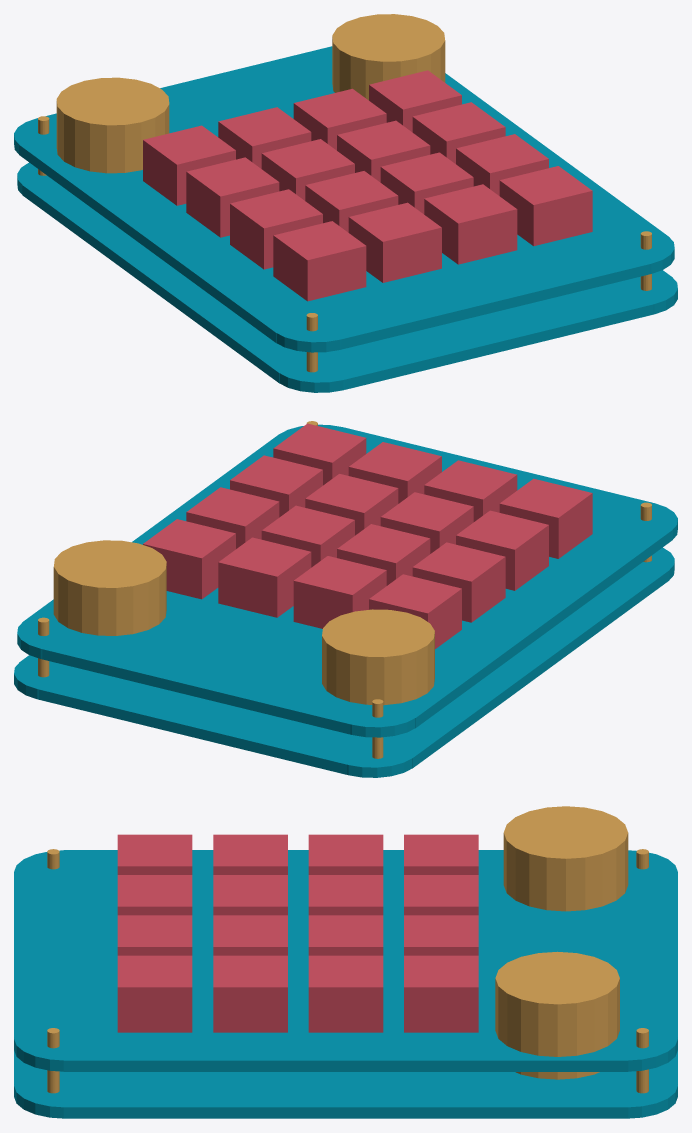
File: keypad.glb
3 views of the same model, one above another, from view 1: azimuth 30°, elevation 25°; view 2: azimuth 150°, elevation 25°; view 3: azimuth 270°, elevation 25° (orthographic). The views are drawn at different scales.
Parts seen in each view (by area): view 1: Mesh_Mesh_head_geo.001_lambert2SG.001; view 2: Mesh_Mesh_head_geo.001_lambert2SG.001; view 3: Mesh_Mesh_head_geo.001_lambert2SG.001.
Part boxes in pixels (left/top/right/bottom): Mesh_Mesh_head_geo.001_lambert2SG.001: left=14, top=14, right=677, bottom=392; Mesh_Mesh_head_geo.001_lambert2SG.001: left=14, top=421, right=677, bottom=777; Mesh_Mesh_head_geo.001_lambert2SG.001: left=14, top=806, right=677, bottom=1118.
Size of the model in its own units: 121 by 30 by 160.
